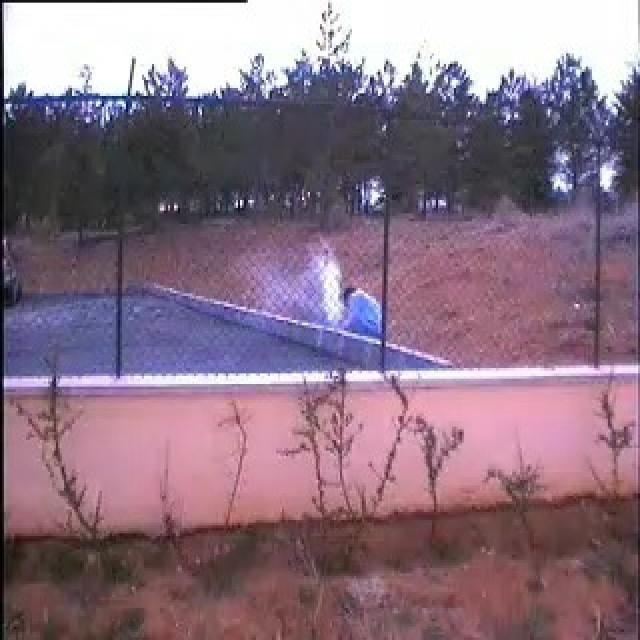smoke: (264, 232, 344, 324)
